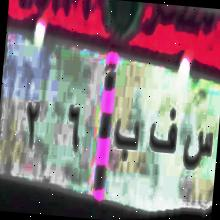2: (21, 92, 42, 149)
6: (59, 103, 88, 158)
baa: (109, 105, 144, 169)
faa: (148, 102, 182, 169)
seen: (182, 119, 214, 173)
